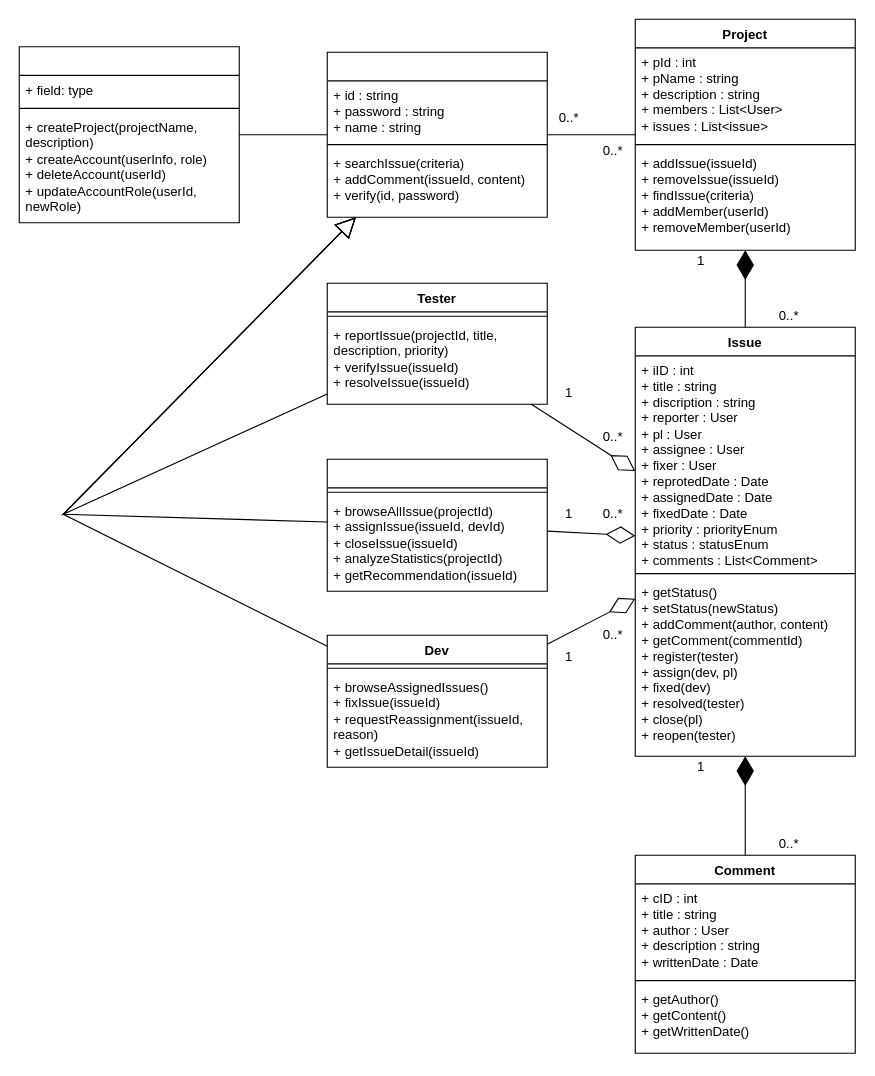
The diagram is 875 pixels wide and 1076 high, and some of its shapes have lost their labels. Here are the shapes that lost their labels. From the top down, the box of each, then its label:
(18, 46, 239, 223): Admin
(326, 51, 547, 217): {abstract} User
(326, 458, 547, 591): PL
